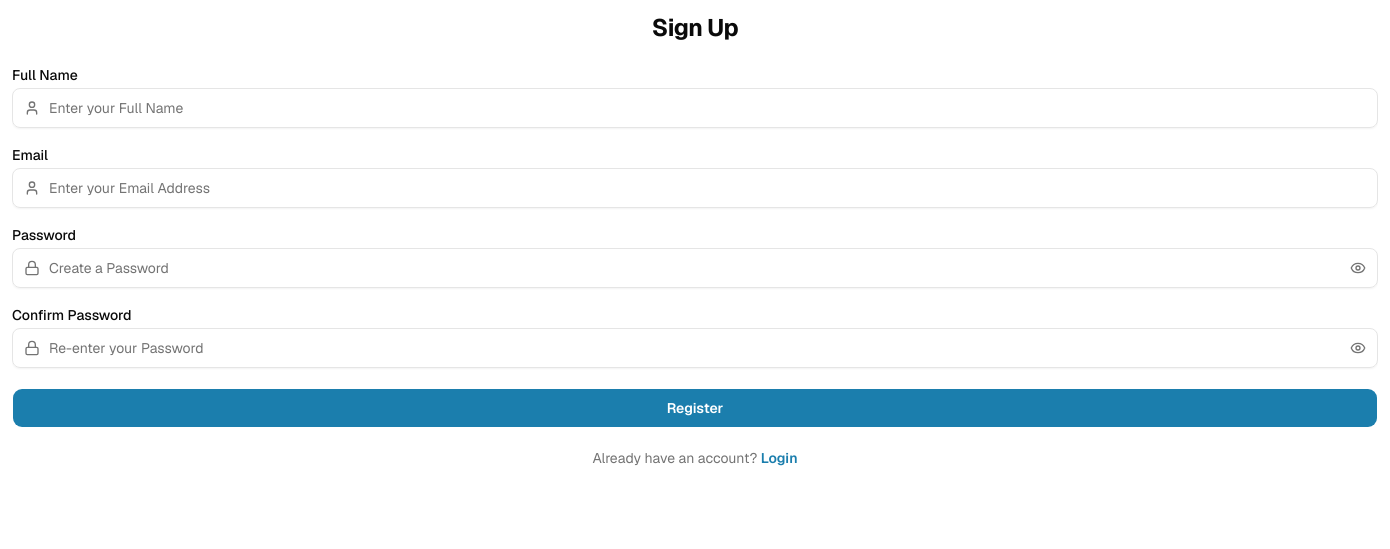
Test: RegisterForm › should show API error on registration failure
Type "Test User" into the field labelled "Full Name". click: point(695, 108)
box: 12,88 -> 1378,128
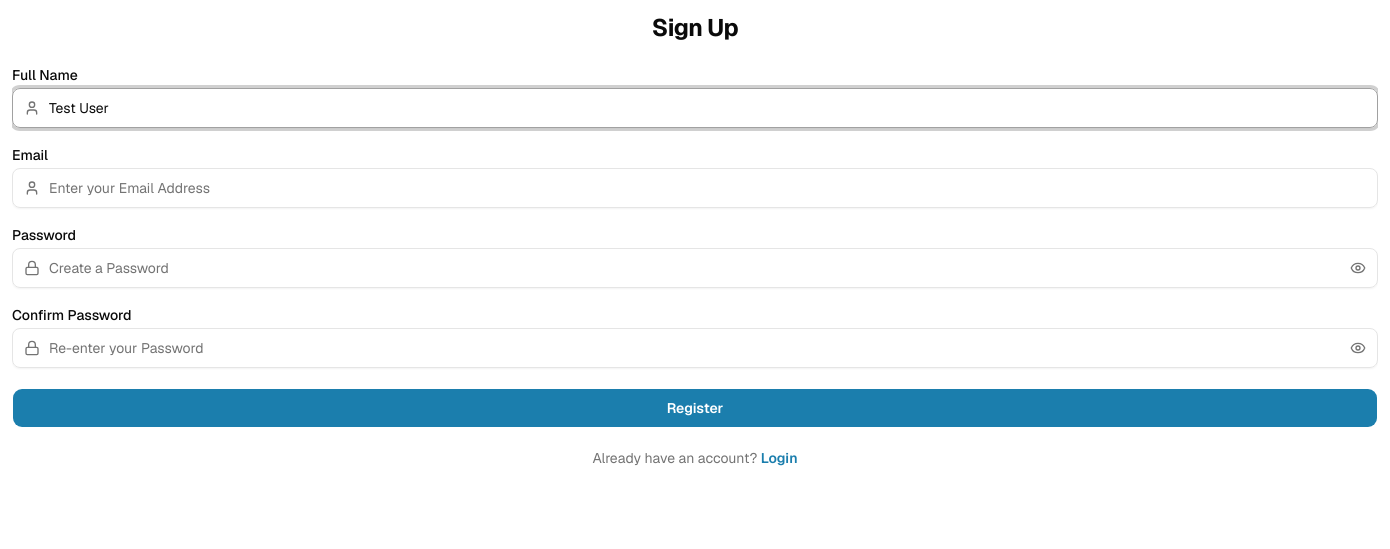
Type "dup@test.com" into the field labelled "Email". click: point(695, 188)
box: 12,168 -> 1378,208
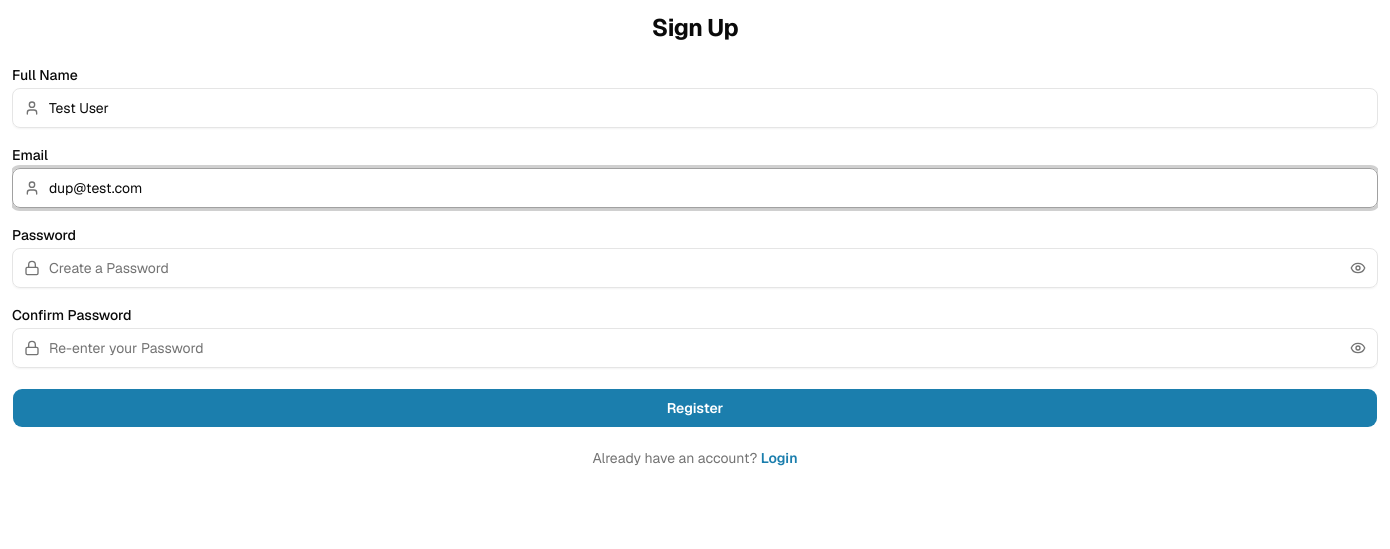
Type "TestPass123" into the password field labelled "Password". click: point(695, 268)
box: 12,248 -> 1378,288
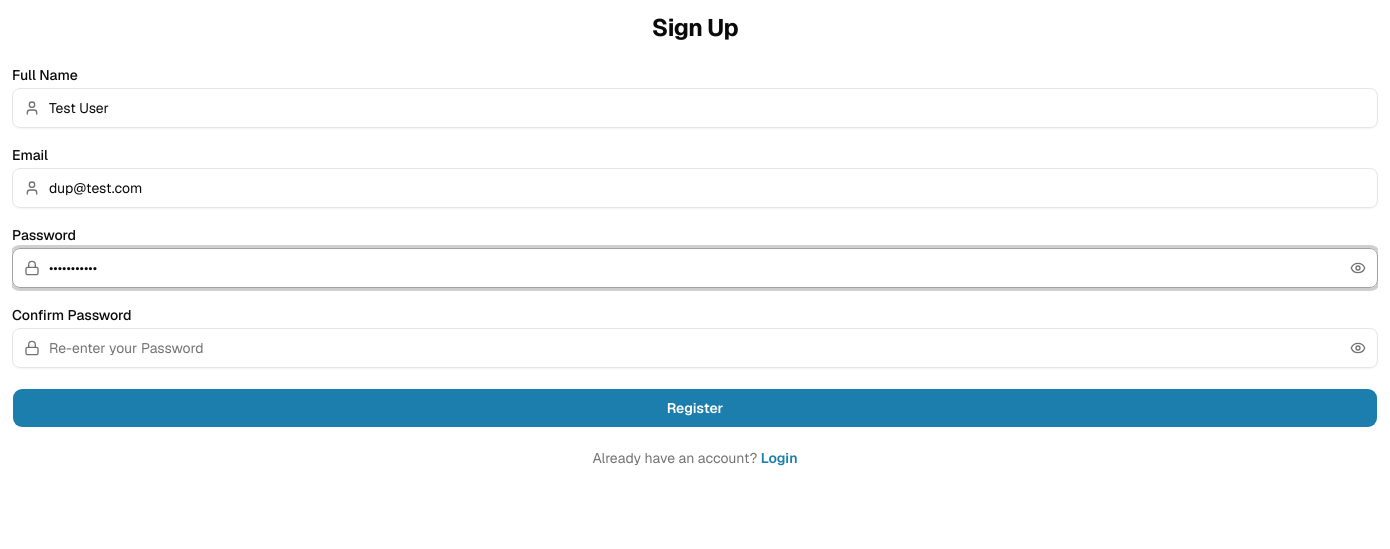
Type "TestPass123" into the password field labelled "Confirm Password". click: point(695, 348)
box: 12,328 -> 1378,368
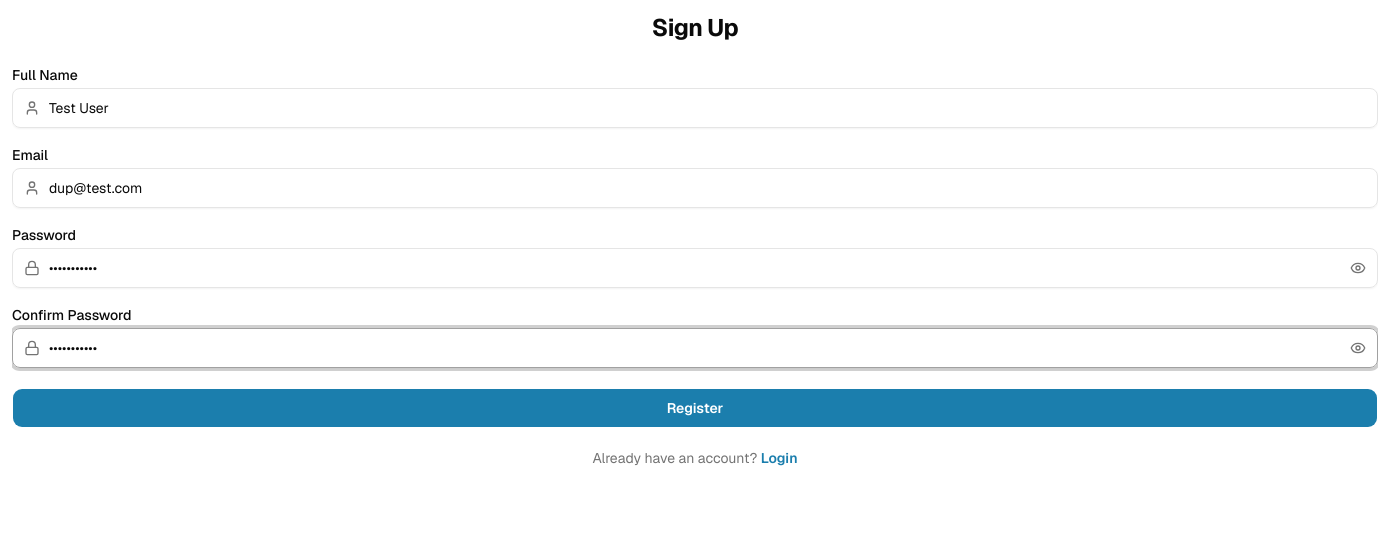
Click the button "Register". click: point(695, 408)
box: 12,388 -> 1378,428
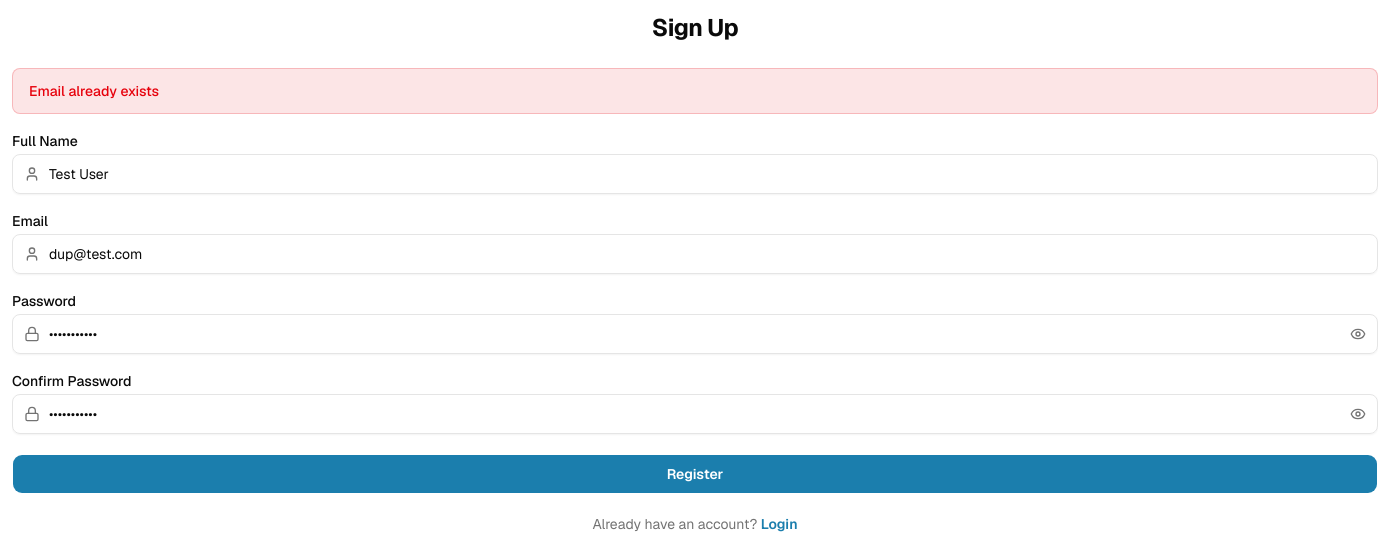
Expected: the text "Email already exists" is shown, 12,68 -> 1378,114
